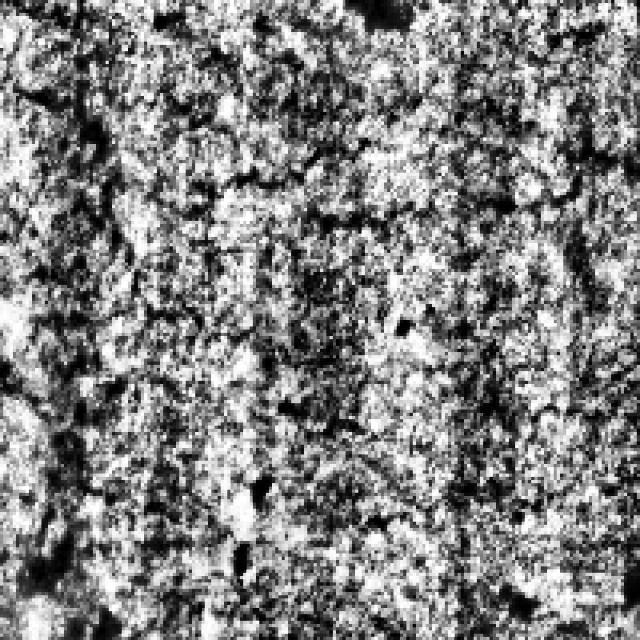Pitted_Surface: (131, 74, 589, 224), (0, 35, 122, 509)
